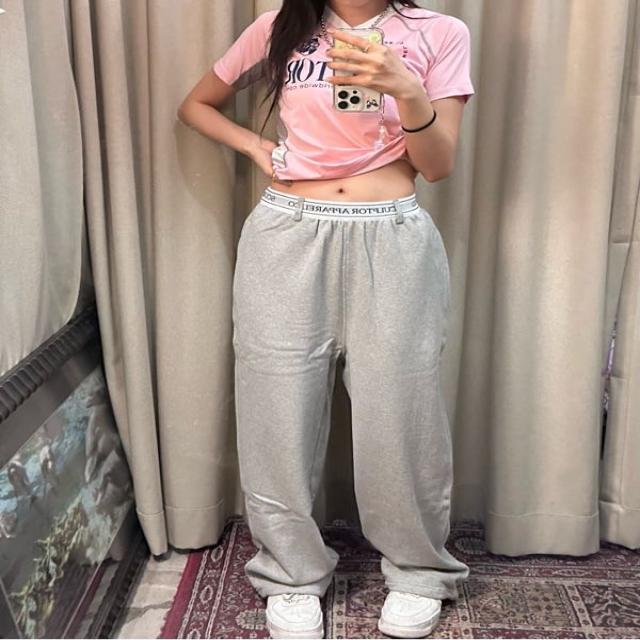shortsleeve: (216, 0, 478, 178)
trainingpants: (239, 194, 467, 611)
